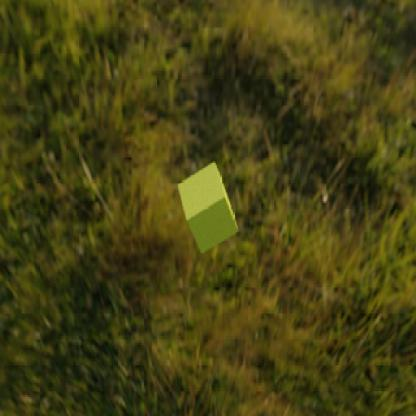yellow_cube: (177, 161, 238, 253)
